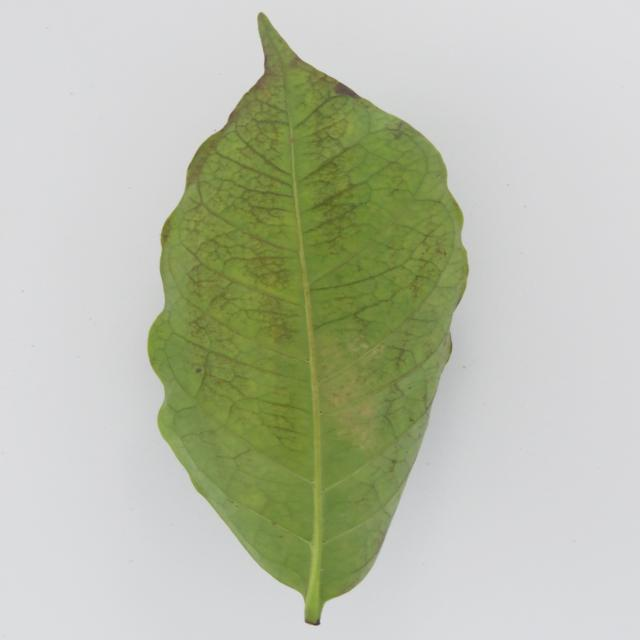DeficienciaNutricional-Calcio: (148, 15, 467, 624)
